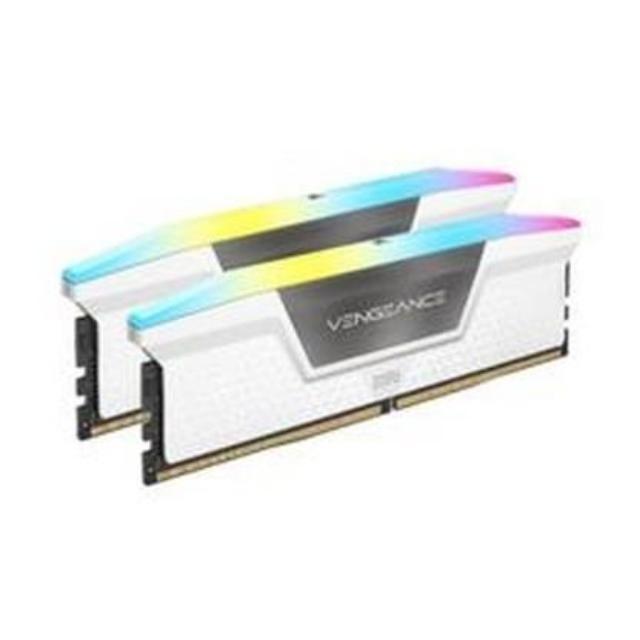RAM: (50, 162, 590, 484)
